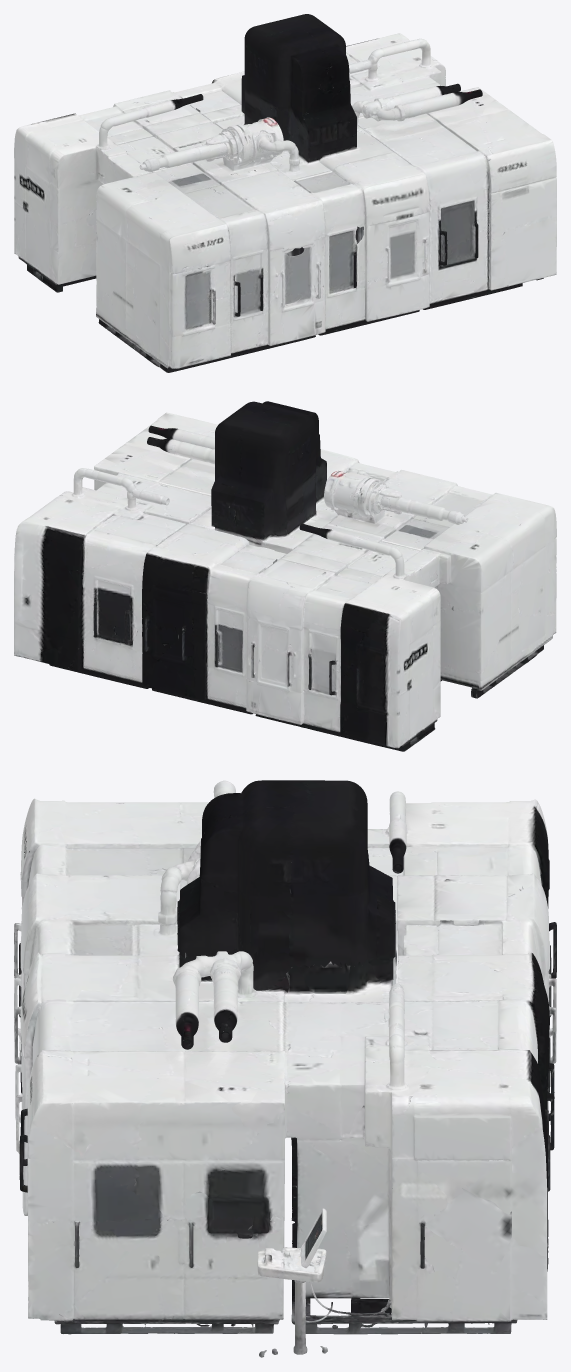
File: cluster_tool_b.glb
The picture shows the model from 3 angles, top to bottom: view 1: azimuth 30°, elevation 25°; view 2: azimuth 150°, elevation 25°; view 3: azimuth 270°, elevation 25°; orthographic projection. The views are drawn at different scales.
Bounding box in the file's own units: 1.89 × 1.04 × 1.28.
1 material, 1 textured.
